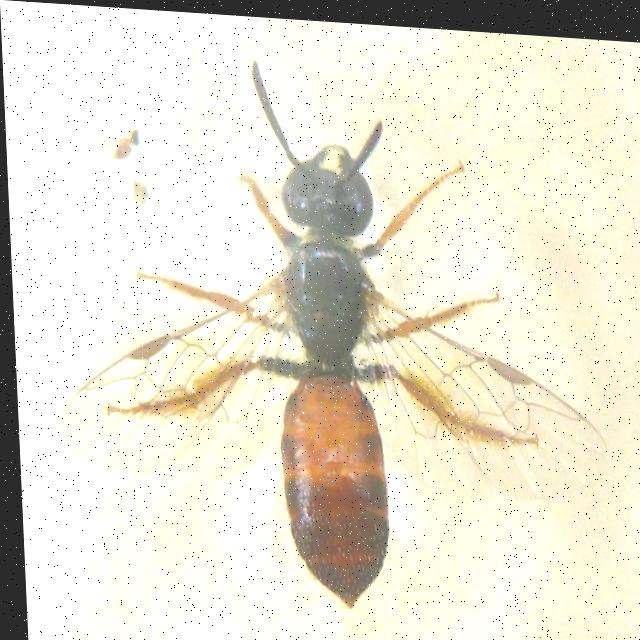Allodapula: (57, 41, 592, 640)
